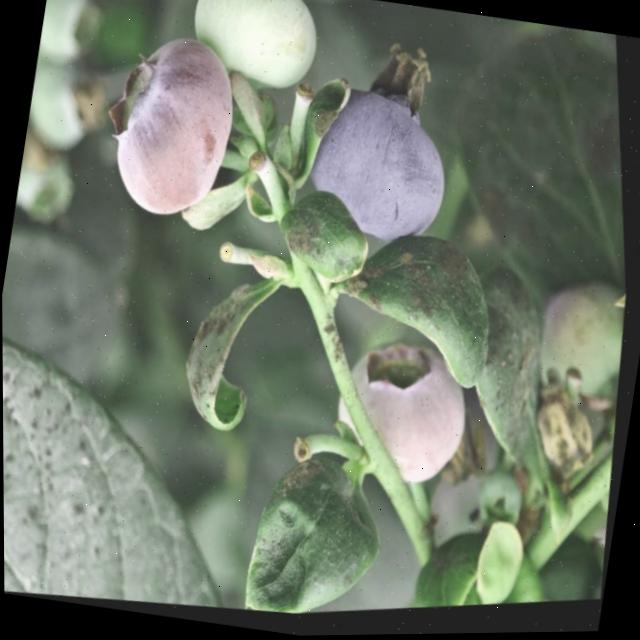RipeBlueBerry: (282, 37, 507, 278), (313, 317, 512, 524)
Semi-RipeBlueBerry: (77, 14, 276, 250)
UnripeBlueBerry: (163, 0, 362, 131)
